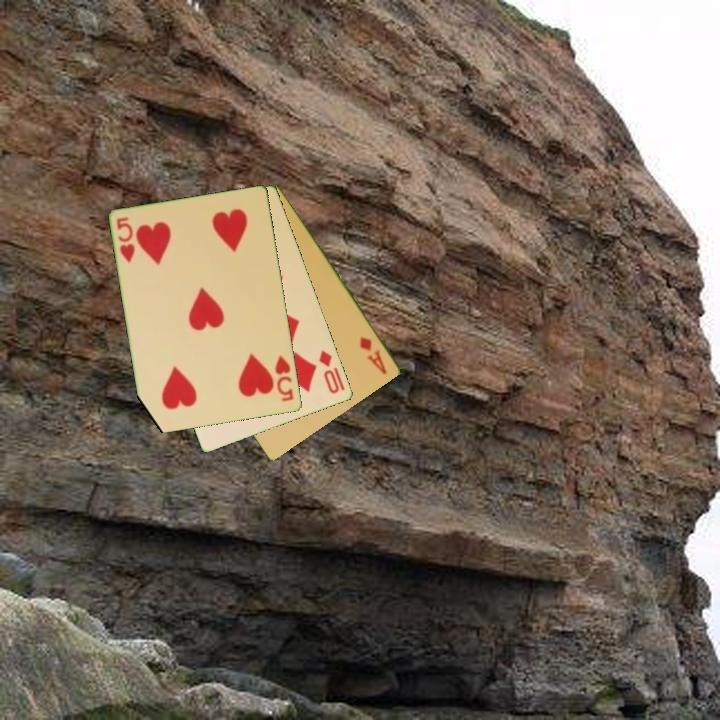10d: (315, 347, 342, 397)
5h: (113, 213, 138, 266), (272, 352, 297, 404)
Ad: (356, 333, 390, 377)
